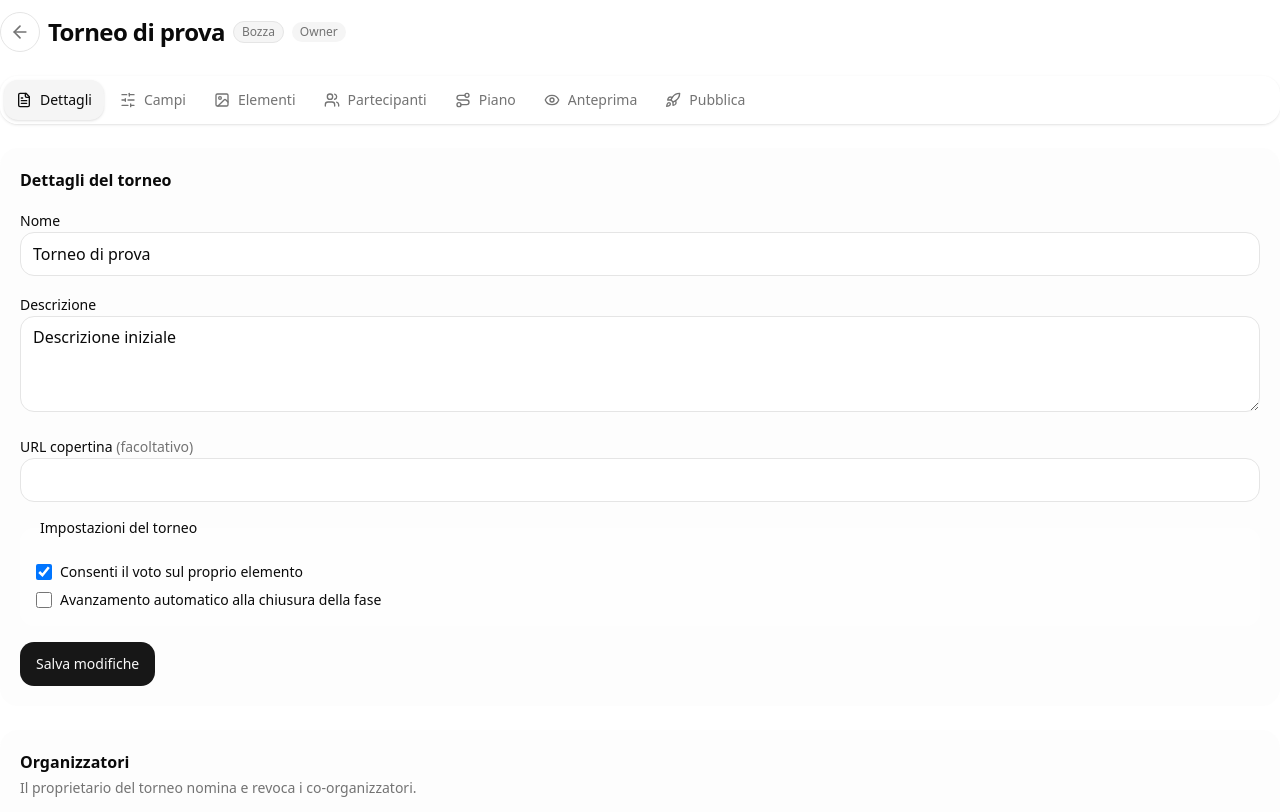
Test: TournamentDetailView › mostra la gestione dei partecipanti all organizzatore
Click the button with id "tab-participants" at (375, 100), box x1=312 y1=80 x2=439 y2=120
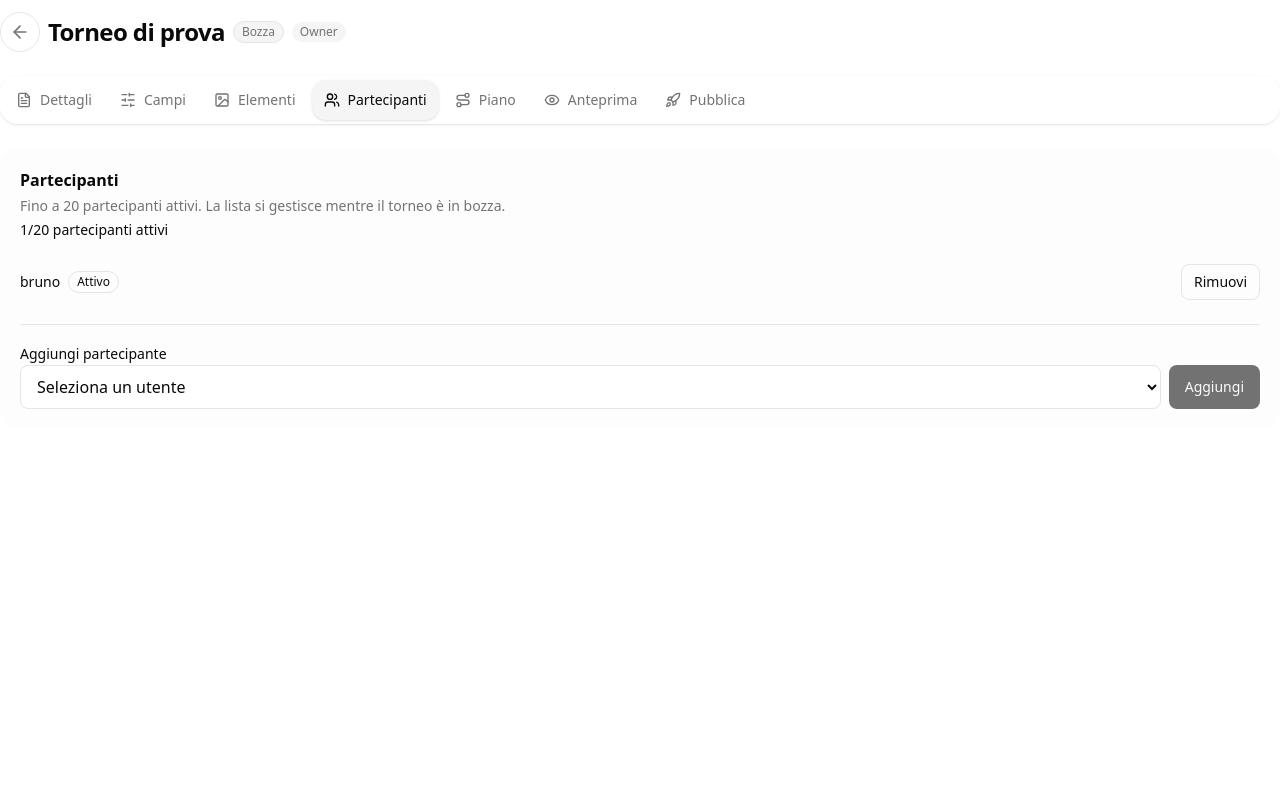
Check: the text "Aggiungi partecipante" is shown, box x1=20 y1=344 x2=166 y2=363
Check: the text "bruno" is shown, box x1=20 y1=272 x2=60 y2=292
Check: the text "1/20 partecipanti attivi" is shown, box x1=20 y1=220 x2=168 y2=239
